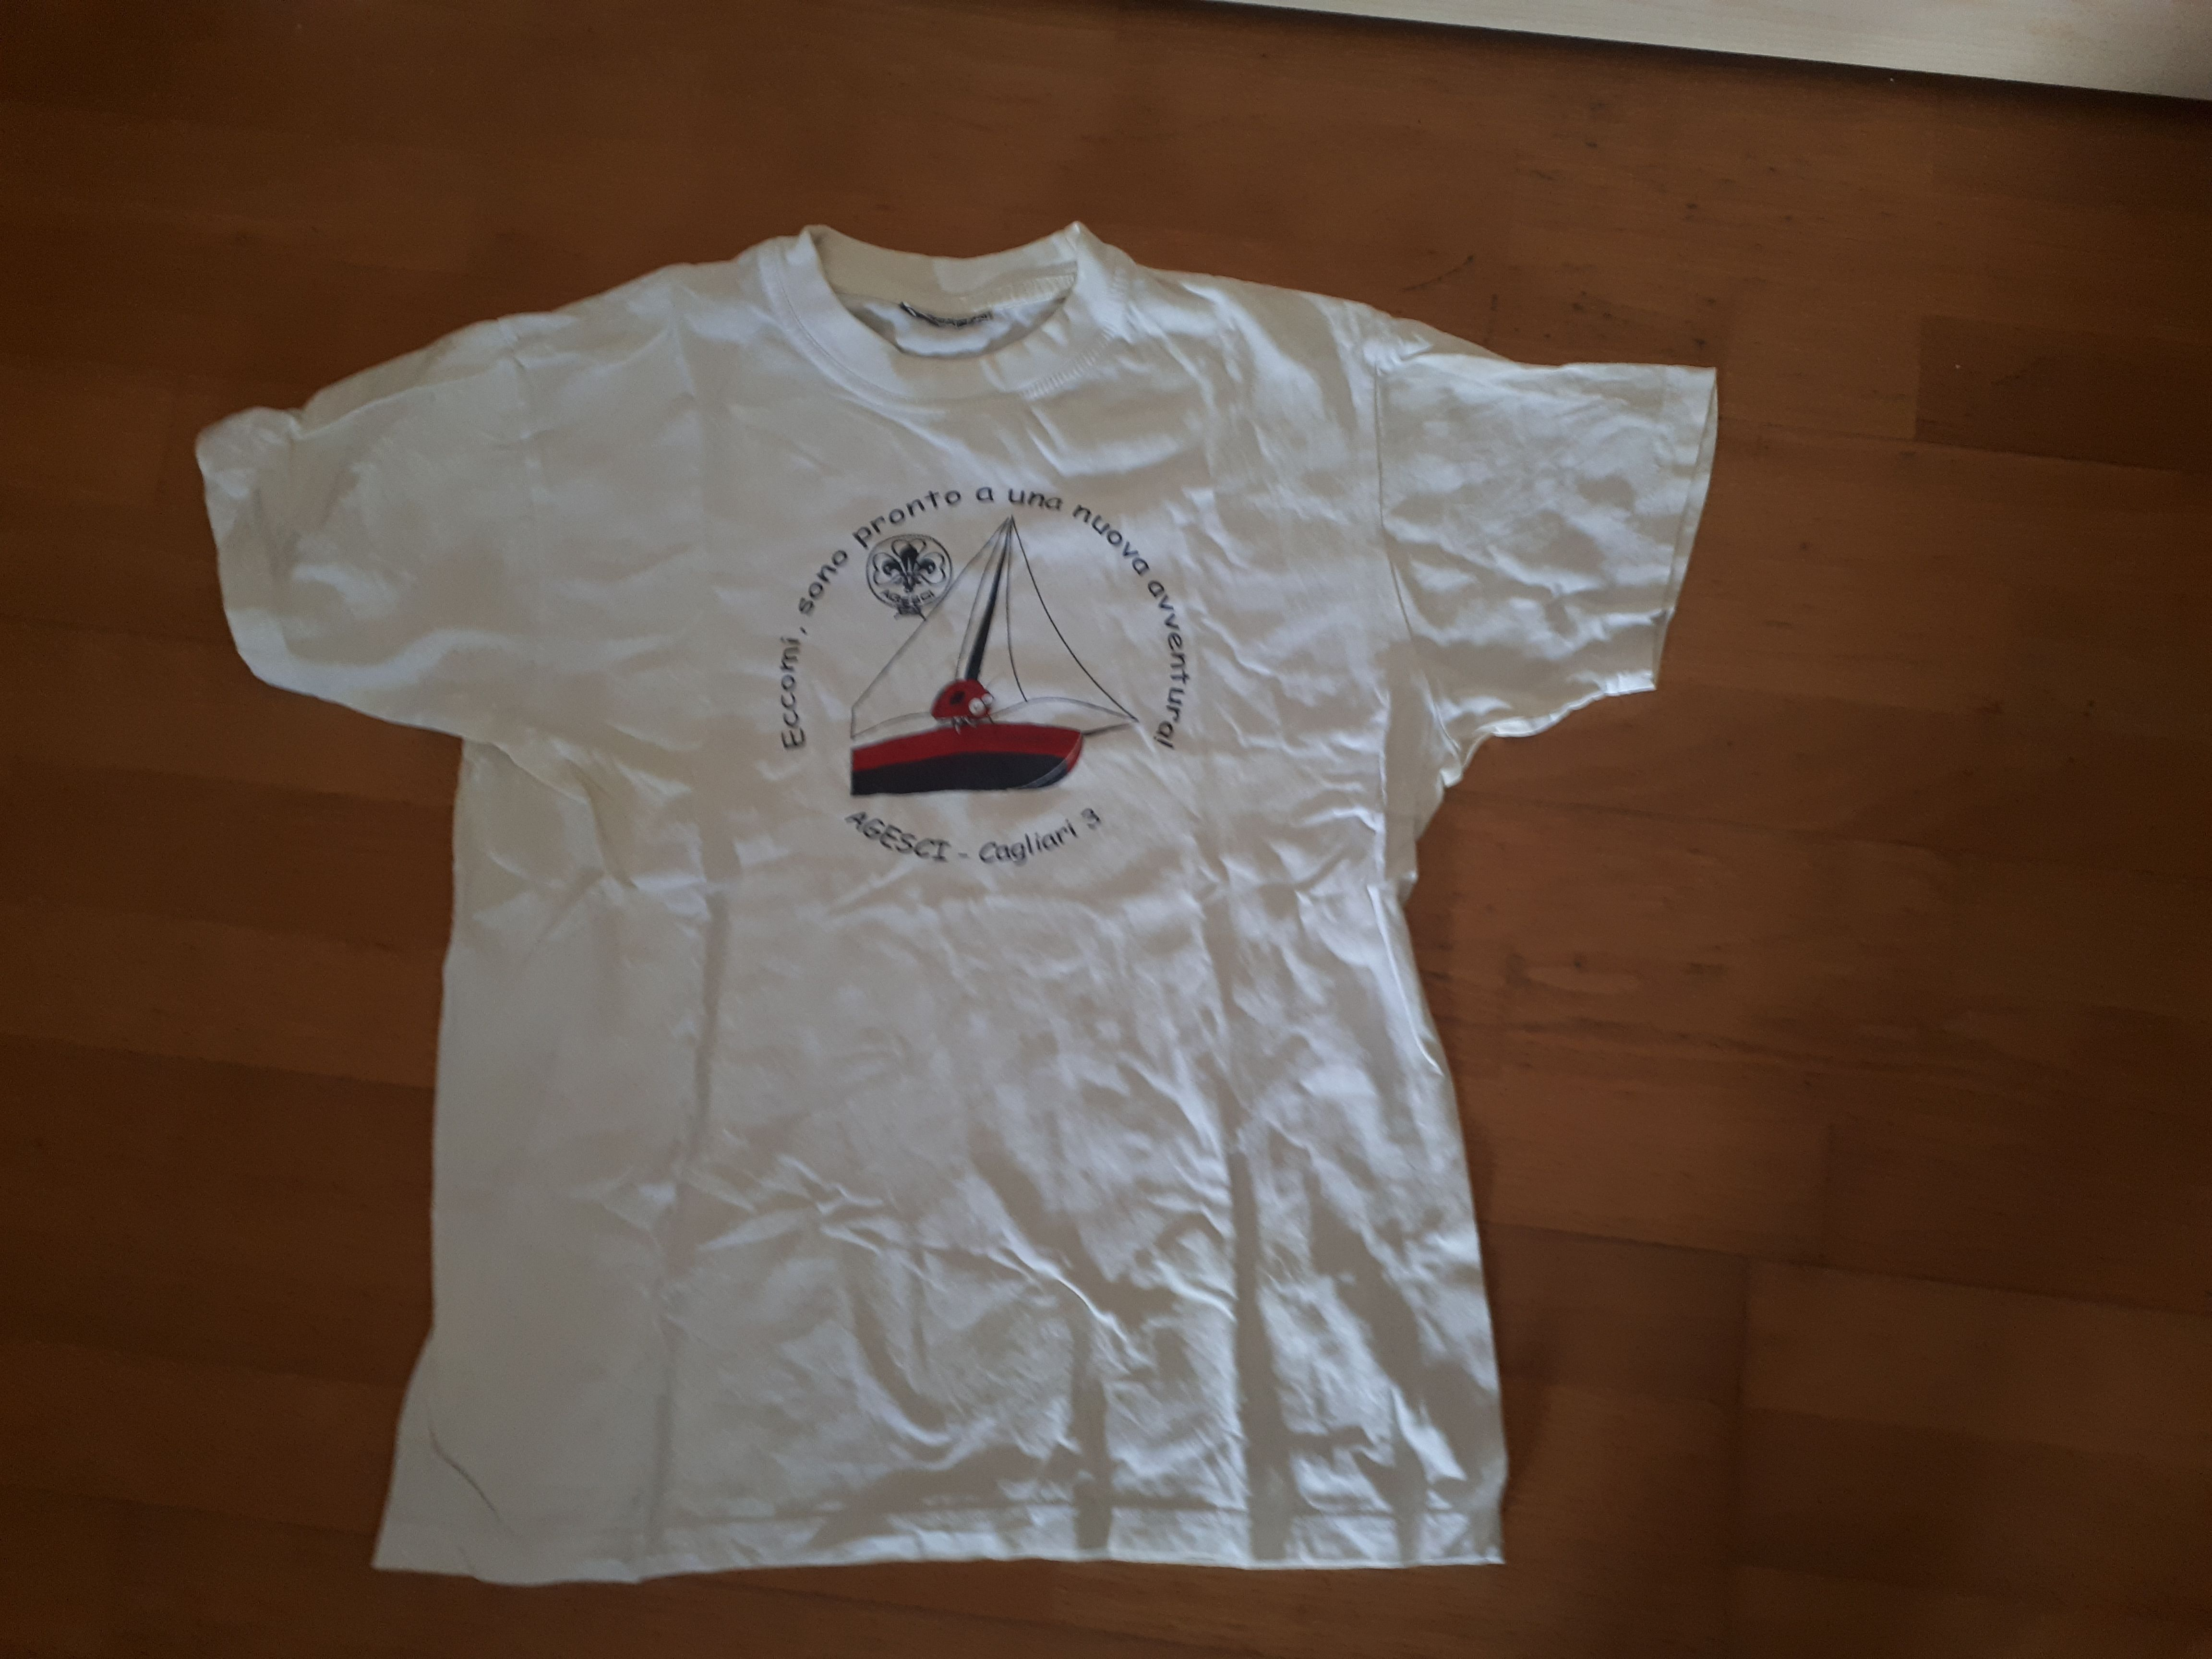clothes: (181, 213, 1703, 1595)
